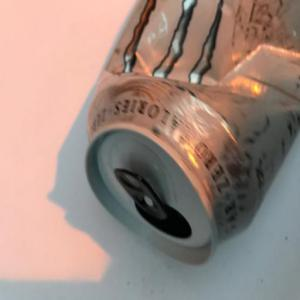Can: (83, 2, 300, 267)
